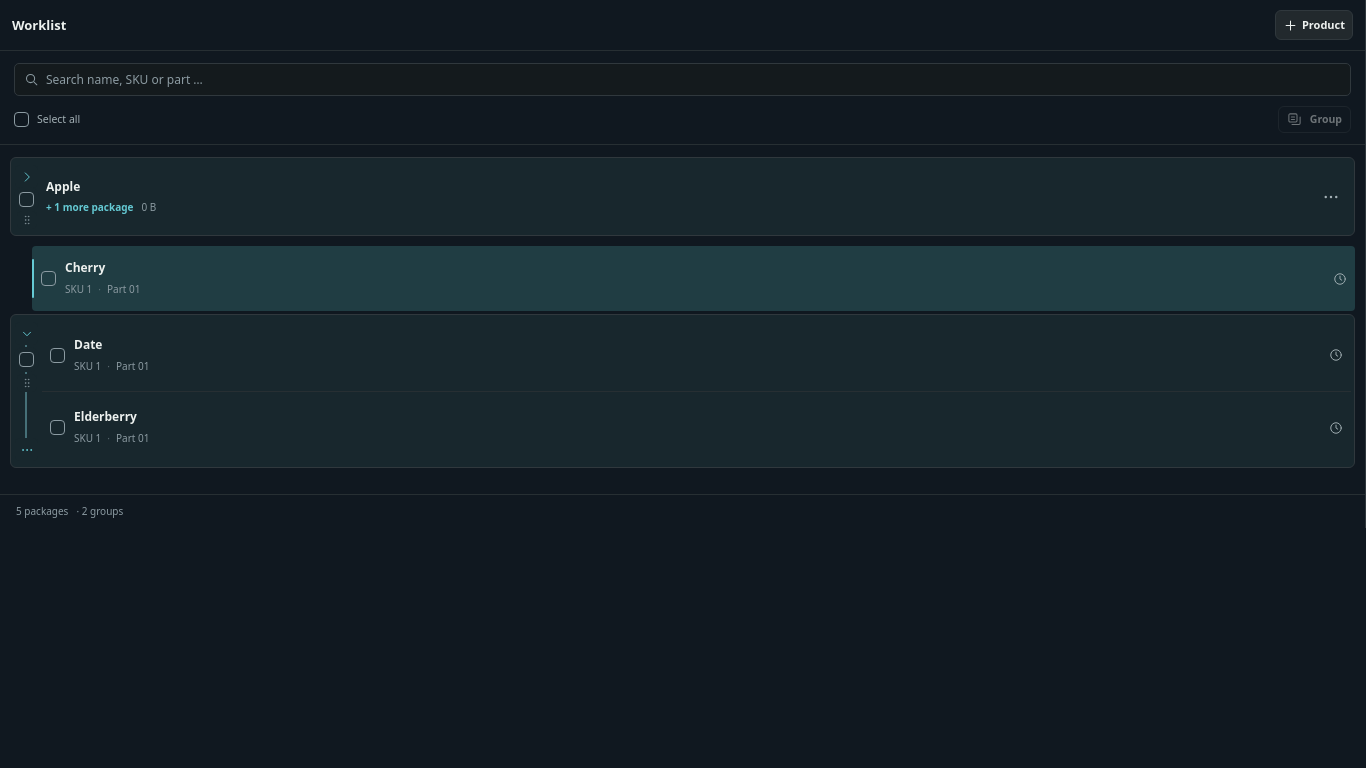
Test: starts dragging only after six pixels, shows hidden selection count, and cancels with Escape
Click the checkbox labelled "Select all".
click(22, 120)  # box [14,112,29,127]
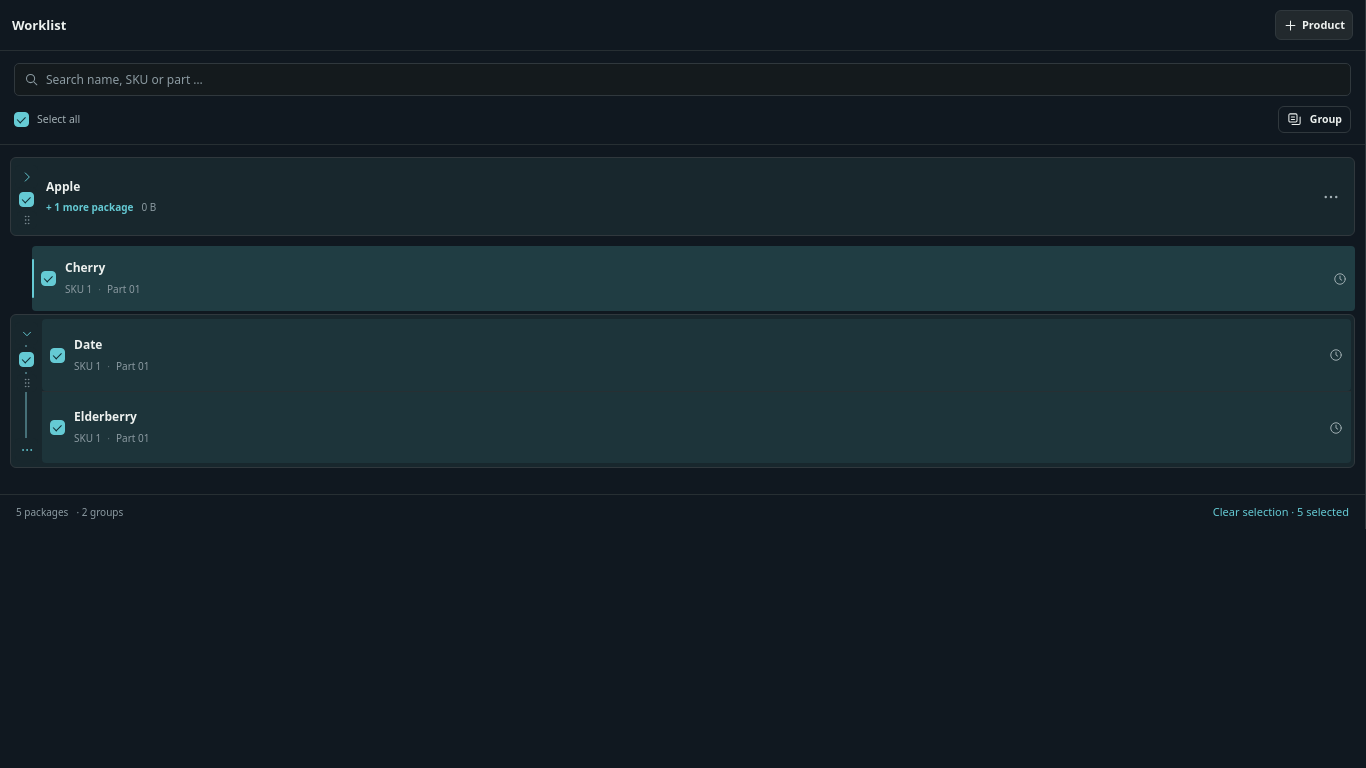
Press the mouse on the button "Cherry SKU 1 Part 01" at (85, 268), box [65,260,1317,297]
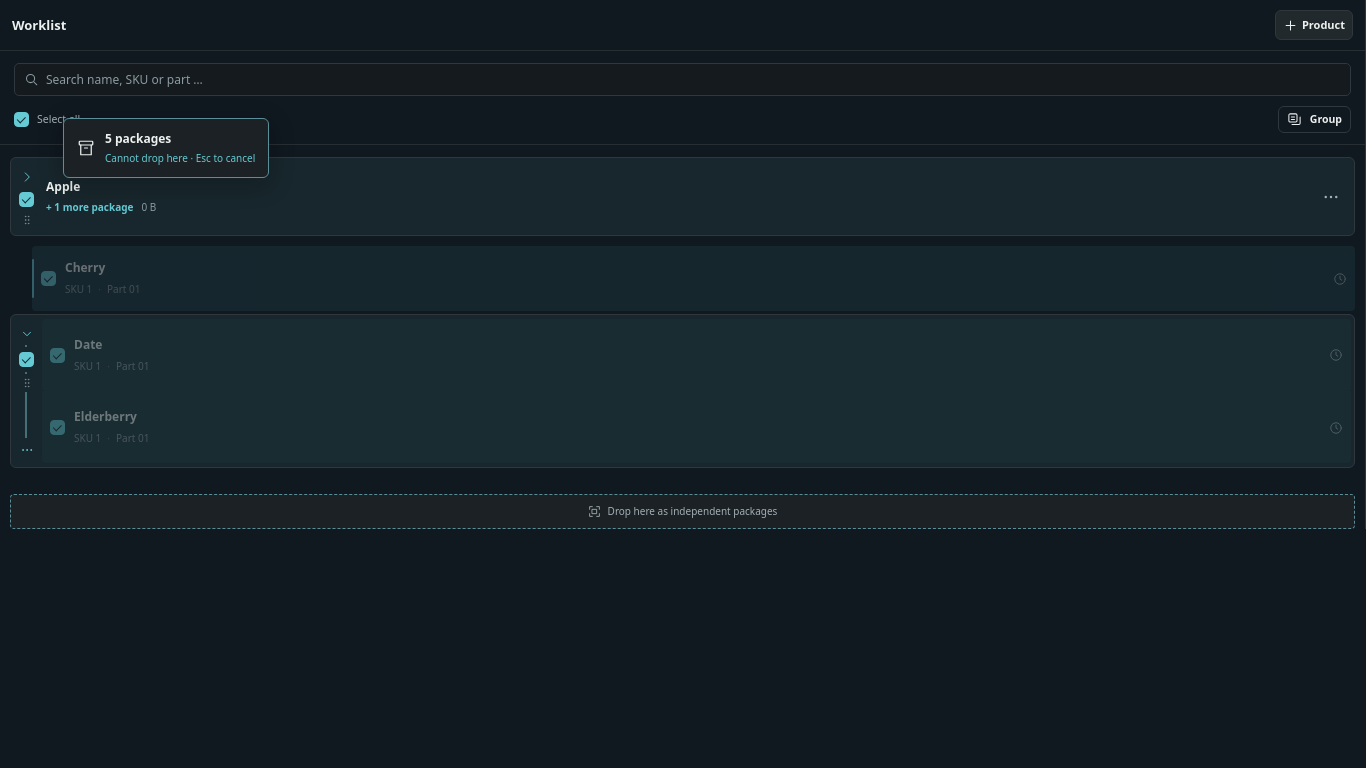
Check: the element with class "worklist-drag-ghost" shows "5 packages", box [105,130,171,147]
Press Escape in the button "Cherry SKU 1 Part 01", box [65,260,1317,297]
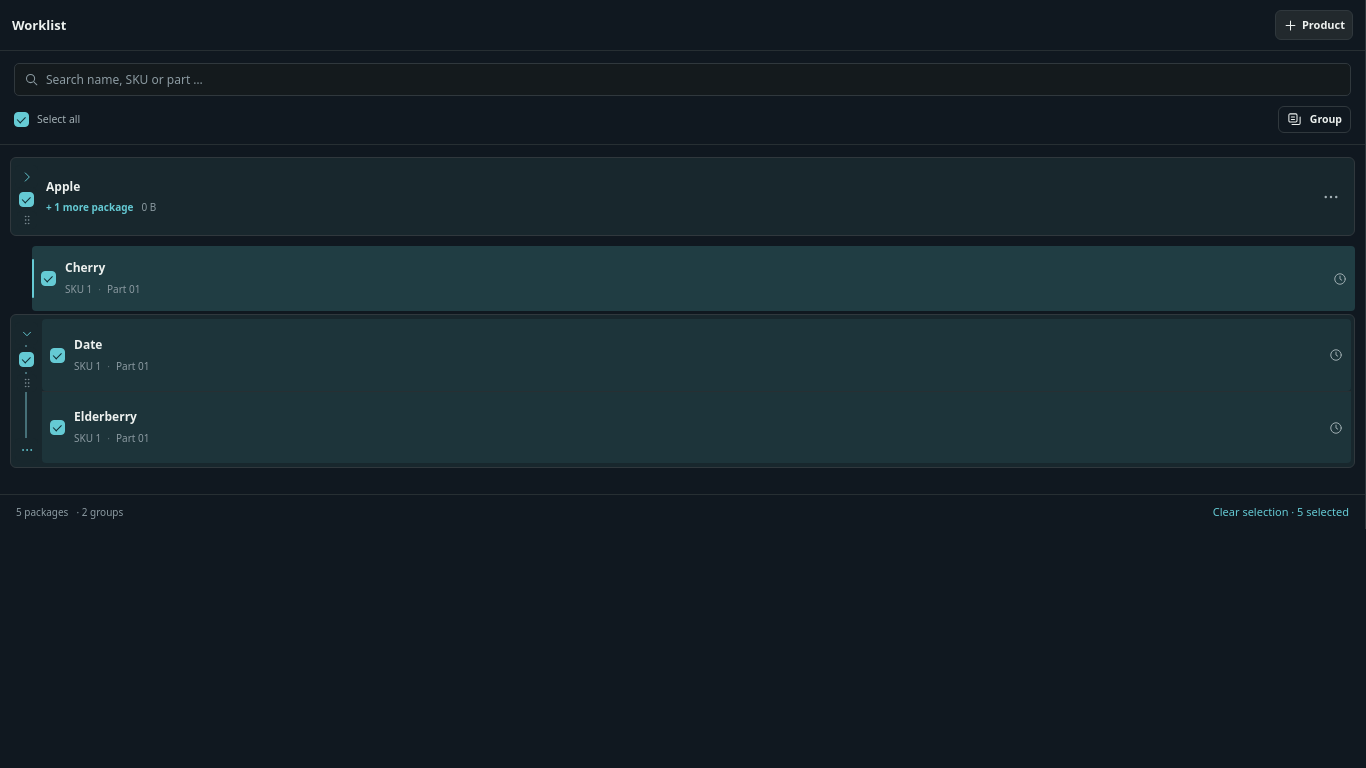
Check: the element with class "worklist-drag-ghost" is gone
